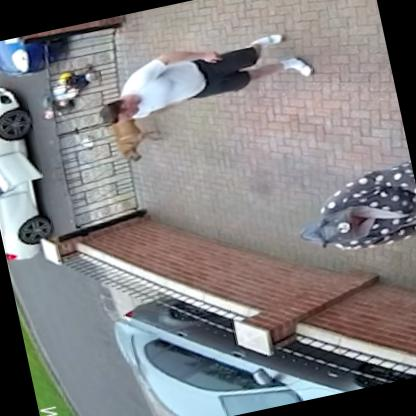Human Body: (86, 16, 322, 132), (286, 158, 415, 266)
